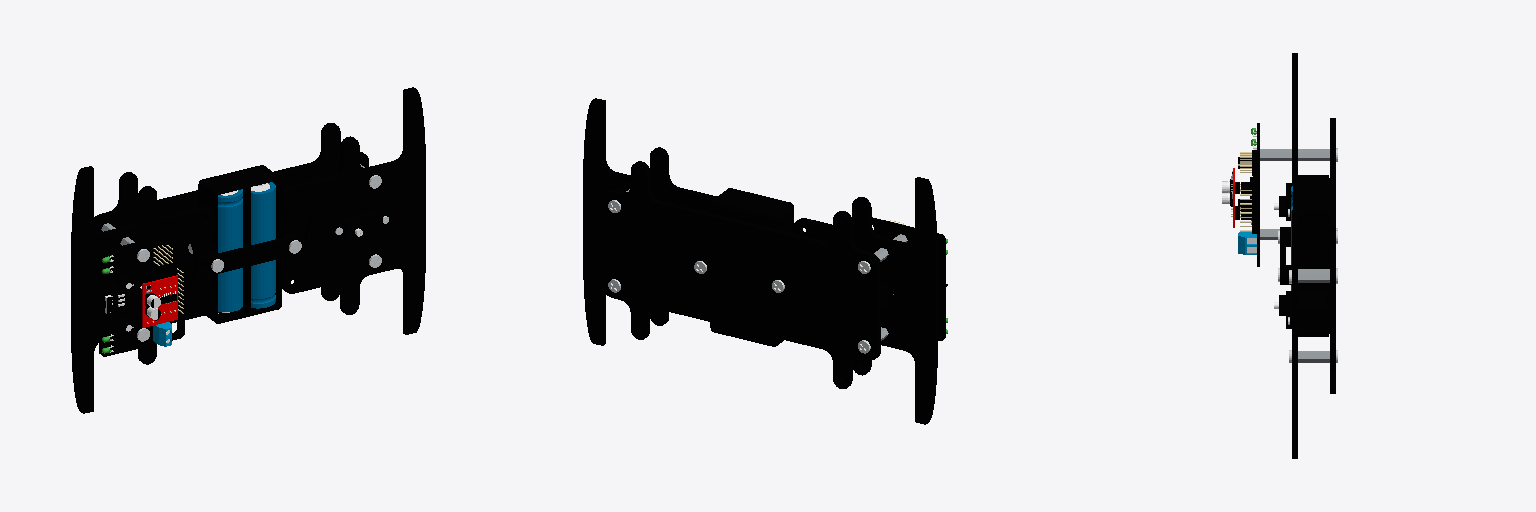
Rendered from body.obj.
The picture shows the model from 3 angles: view 1: azimuth 30°, elevation 25°; view 2: azimuth 150°, elevation 25°; view 3: azimuth 270°, elevation 25°; orthographic projection.
Parts seen in each view (by area): view 1: body; view 2: body; view 3: body.
Boxes of the visible parts, x1=… form: body: x1=71, y1=87, x2=425, y2=413; body: x1=583, y1=98, x2=947, y2=424; body: x1=1222, y1=53, x2=1337, y2=458.
Bounding box in the file's own units: 0.209 × 0.138 × 0.0601.